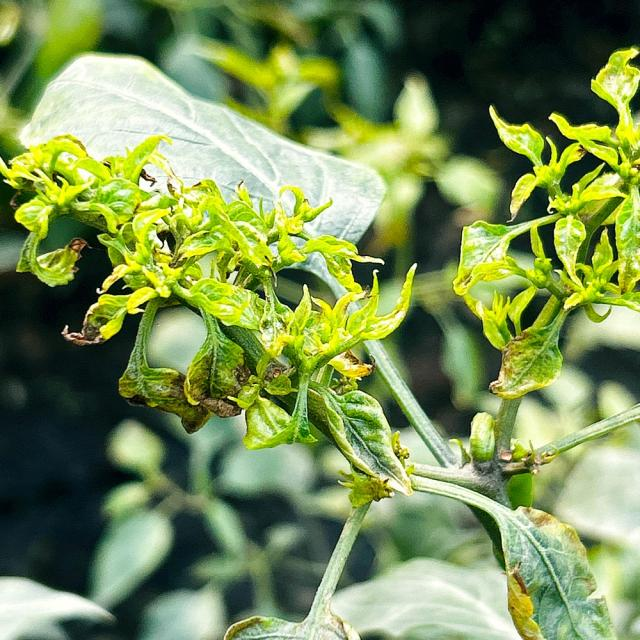Chilli_Leaf_Curl: (2, 43, 637, 637), (1, 128, 419, 497), (16, 50, 388, 257), (452, 45, 639, 400), (406, 463, 616, 638), (495, 504, 616, 638), (308, 382, 415, 499)
